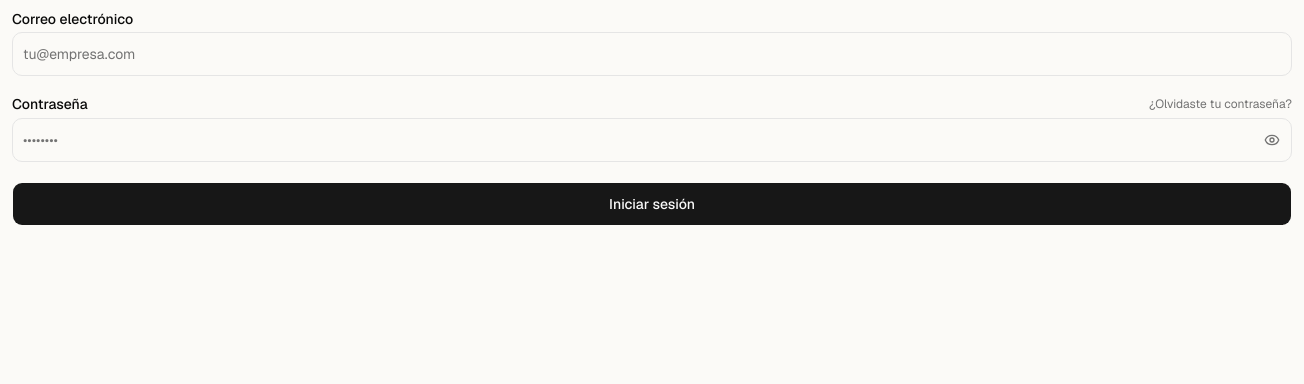
Test: LoginForm — manejo de respuestas del servidor › redirige a /login?verified=true y vuelve al login tras verificación exitosa
The width and height of the screenshot is (1304, 384).
Type "user@test.com" into the field labelled "Correo electrónico".
click(652, 54); type("user@test.com")  # box [12,32,1292,76]
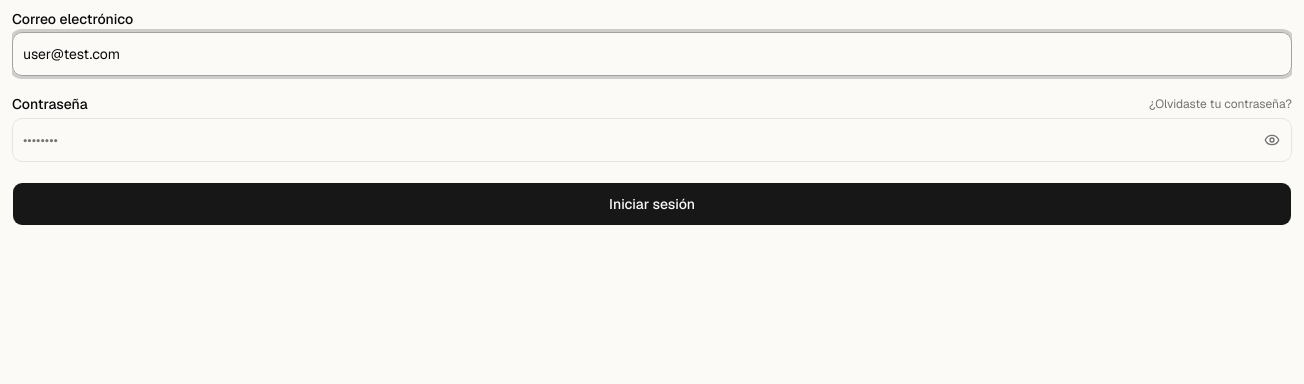
Type "password123" into the password field labelled "Contraseña".
click(652, 140); type("password123")  # box [12,118,1292,162]
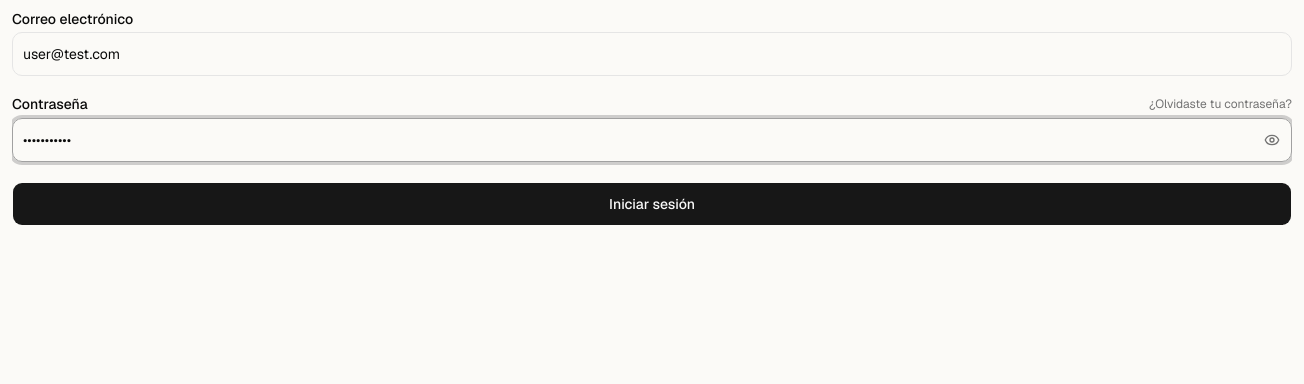
Click the button "Iniciar sesión".
click(652, 204)  # box [12,182,1292,226]
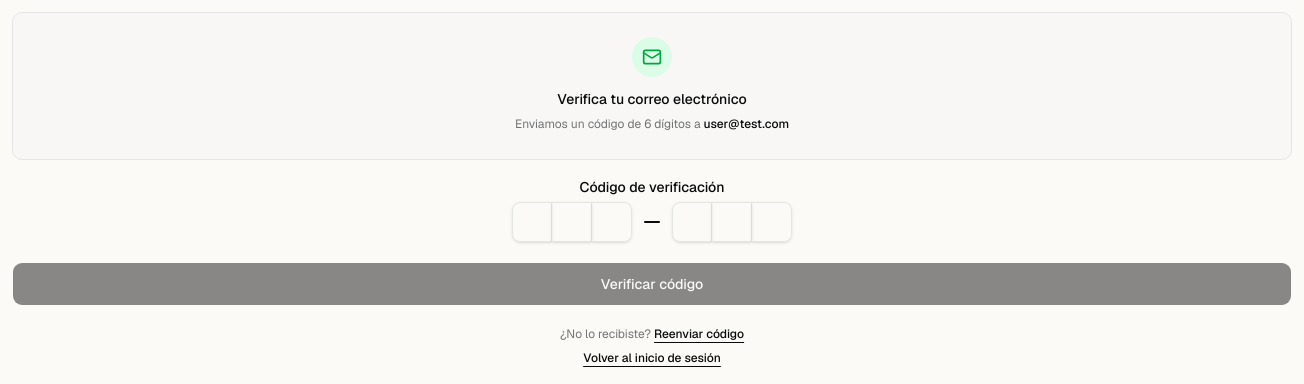
Now the field labelled "Código de verificación" is shown
Type "123456" into the field labelled "Código de verificación".
click(652, 222); type("123456")  # box [512,202,792,242]
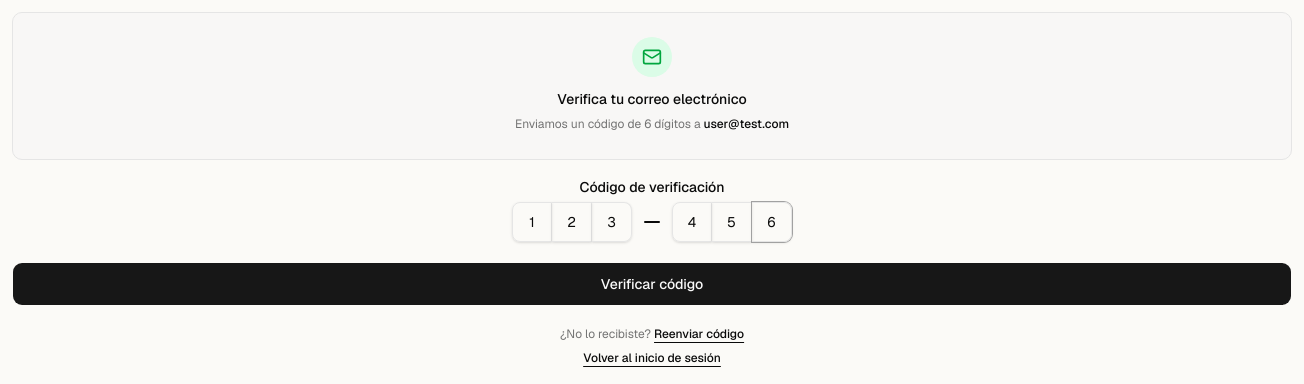
Click the button "Verificar código".
click(652, 284)  # box [12,262,1292,306]
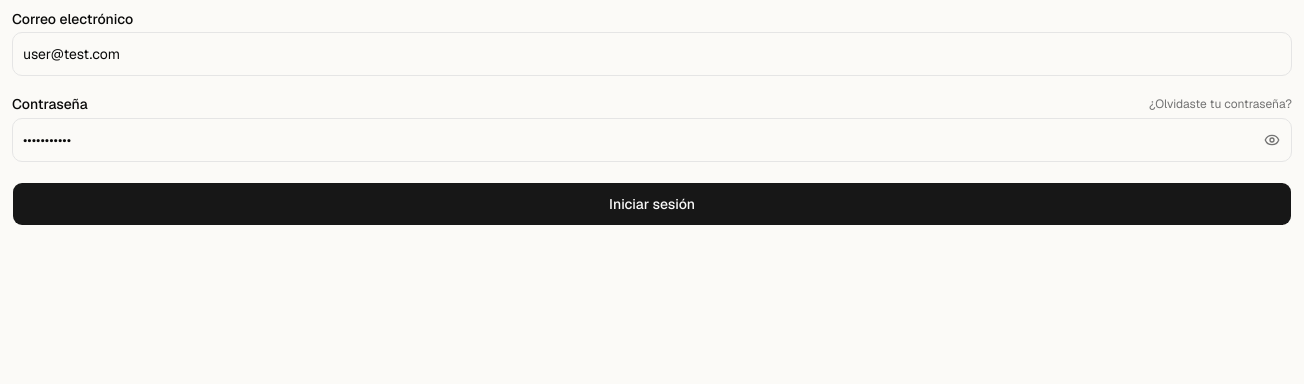
Now the button "Iniciar sesión" is shown, box [12,182,1292,226]
